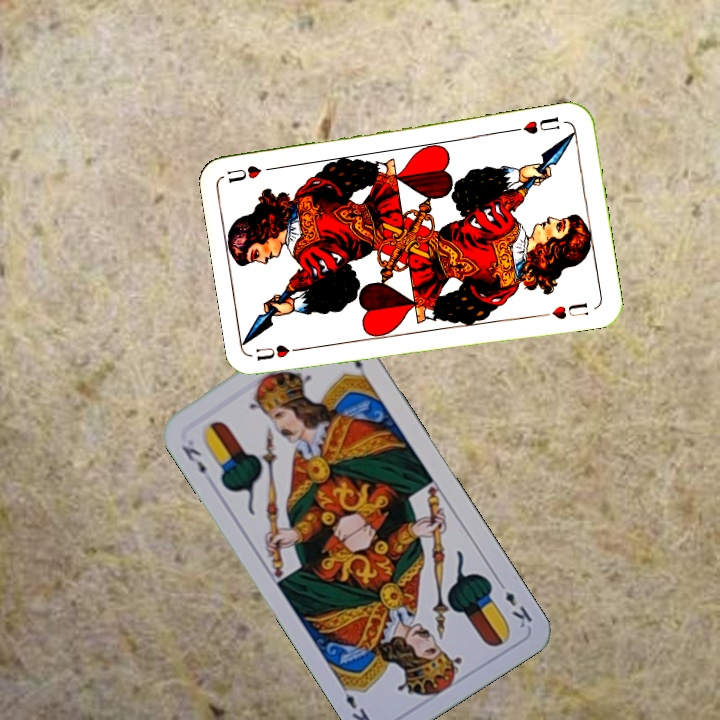EK: (493, 575, 535, 631), (177, 441, 209, 477)
HU: (251, 341, 310, 363), (519, 113, 563, 137)
